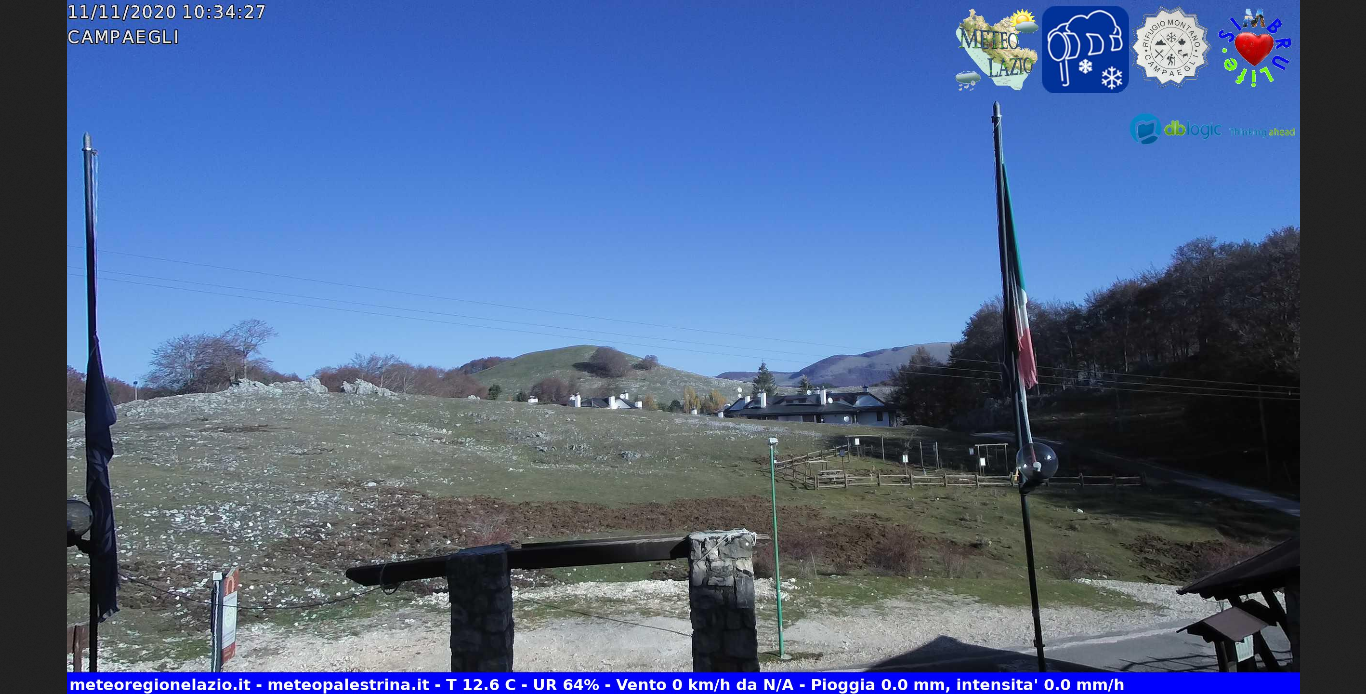no: (980, 89, 1049, 473)
